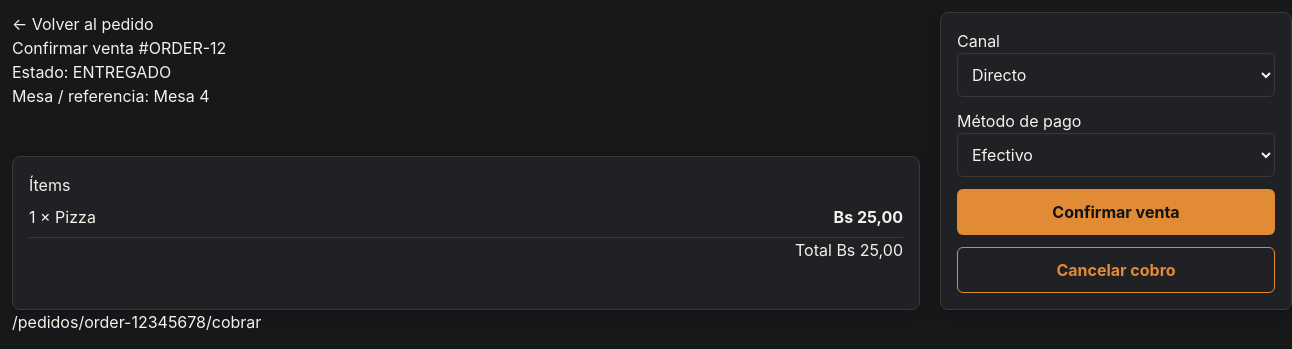
CheckoutPage HU-012 › renders eligible real order data and only legal channel/payment fields without future scope controls
Expected: the text "Estado: ENTREGADO" is shown, [12,62,171,82]
Expected: the text "Mesa / referencia: Mesa 4" is shown, [12,86,210,106]
Select "PedidosYa" in the dropdown named "Canal de venta" at (1116, 75), box [957,53,1275,97]
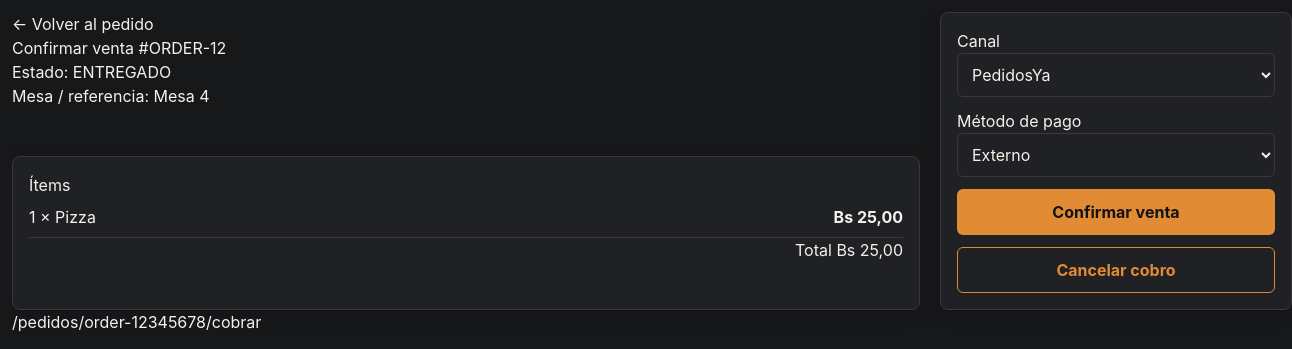
Expected: the option "Efectivo" is not shown
Expected: the dropdown labelled "Método de pago" shows "Externo", [957,133,1275,177]
